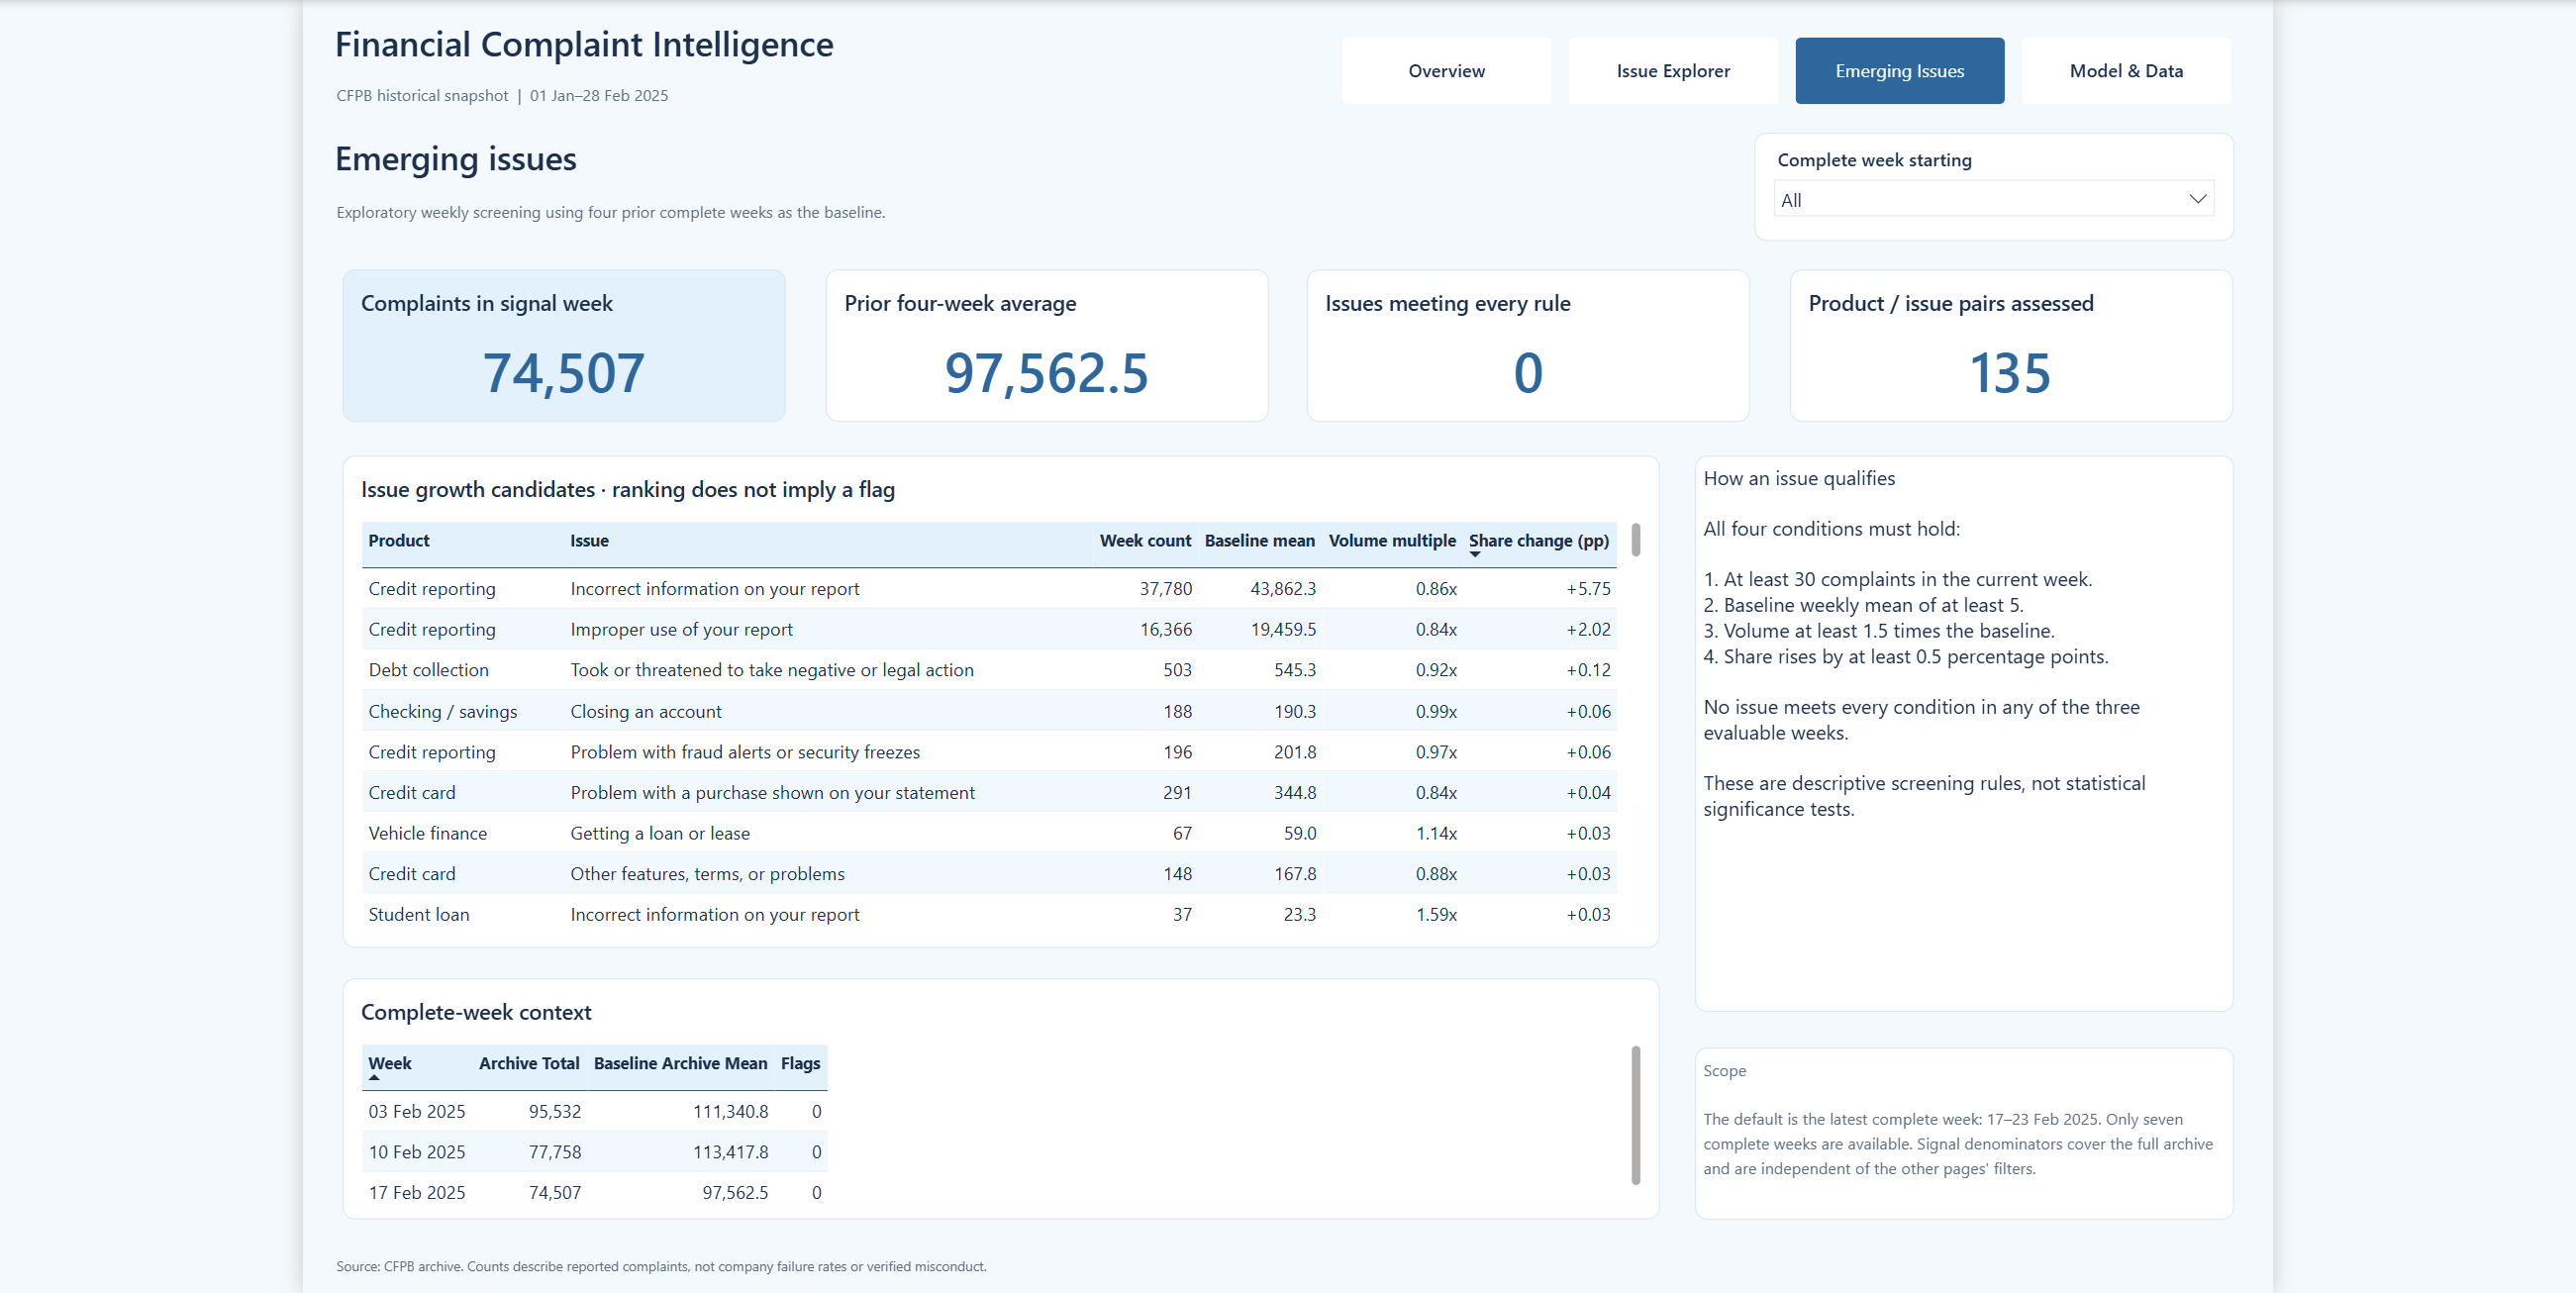

The dashboard page shown, as its layout file describes it:
{"tool":"powerbi","page":{"name":"Emerging Issues","canvas":[1600,1050],"ordinal":2},"visuals":[{"type":"textbox","box":[26,16,800,48],"z":33},{"type":"textbox","box":[28,66,770,29],"z":34},{"type":"pageNavigator","box":[844,30,724,54],"z":35},{"type":"textbox","box":[26,110,650,45],"z":36},{"type":"textbox","box":[28,160,630,36],"z":37},{"type":"textbox","box":[28,1016,1510,28],"z":38},{"type":"slicer","fields":{"Values":["Signal Weeks.Week Label"]},"box":[1178,108,390,88],"z":39},{"type":"card","title":"Complaints in signal week","fields":{"Values":["Signal Summary.Signal Archive Complaints"]},"box":[32,218,360,124],"z":40},{"type":"card","title":"Prior four-week average","fields":{"Values":["Signal Summary.Baseline Weekly Complaints"]},"box":[424,218,360,124],"z":41},{"type":"card","title":"Issues meeting every rule","fields":{"Values":["Signal Summary.Qualifying Signals"]},"box":[816,218,360,124],"z":42},{"type":"card","title":"Product / issue pairs assessed","fields":{"Values":["Signal Summary.Issue Pairs Assessed"]},"box":[1208,218,360,124],"z":43},{"type":"tableEx","title":"Issue growth candidates · ranking does not imply a flag","fields":{"Values":["Signal Details.Product Short","Signal Details.Issue","Signal Details.Issue Week Complaints","Signal Details.Issue Baseline Mean","Signal Details.Issue Volume Multiple","Signal Details.Issue Share Growth pp"]},"box":[32,370,1070,400],"z":44},{"type":"textbox","box":[1130,370,438,452],"z":45},{"type":"tableEx","title":"Complete-week context","fields":{"Values":["Signal Summary.Week","Signal Summary.Archive Total","Signal Summary.Baseline Archive Mean","Signal Summary.Flags"]},"box":[32,794,1070,196],"z":46},{"type":"textbox","box":[1130,850,438,140],"z":47}]}

Visuals, with their boxes on the page's 1600x1050 design canvas (x1, y1, x2, y2). These are canvas units, not pixel positions in the 2576x1293 screenshot, which may show the page scaled, cropped or inside an application window:
textbox: Rect(26, 16, 826, 64)
textbox: Rect(28, 66, 798, 95)
pageNavigator: Rect(844, 30, 1568, 84)
textbox: Rect(26, 110, 676, 155)
textbox: Rect(28, 160, 658, 196)
textbox: Rect(28, 1016, 1538, 1044)
slicer - Signal Weeks.Week Label: Rect(1178, 108, 1568, 196)
"Complaints in signal week" card: Rect(32, 218, 392, 342)
"Prior four-week average" card: Rect(424, 218, 784, 342)
"Issues meeting every rule" card: Rect(816, 218, 1176, 342)
"Product / issue pairs assessed" card: Rect(1208, 218, 1568, 342)
"Issue growth candidates · ranking does not imply a flag" tableEx: Rect(32, 370, 1102, 770)
textbox: Rect(1130, 370, 1568, 822)
"Complete-week context" tableEx: Rect(32, 794, 1102, 990)
textbox: Rect(1130, 850, 1568, 990)
